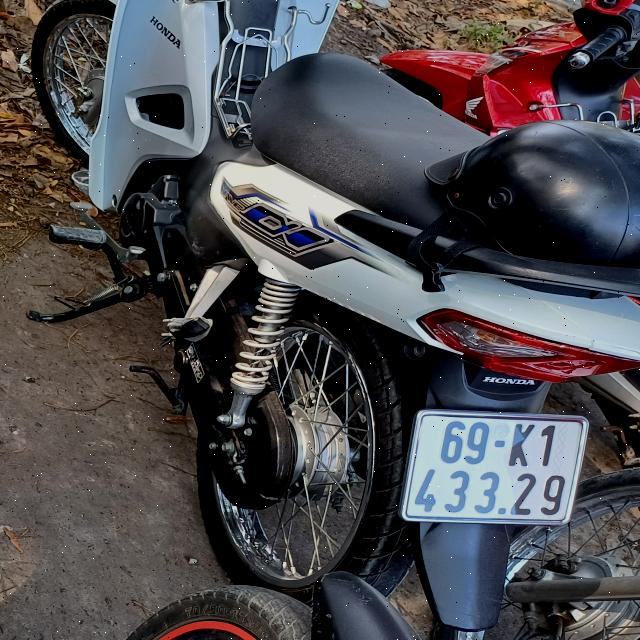1: (536, 422, 560, 467)
2: (509, 471, 533, 517)
3: (446, 468, 470, 515), (476, 469, 499, 515)
4: (412, 466, 438, 514)
6: (440, 419, 464, 464)
9: (465, 420, 491, 467), (540, 472, 566, 517)
K: (506, 420, 534, 471)
